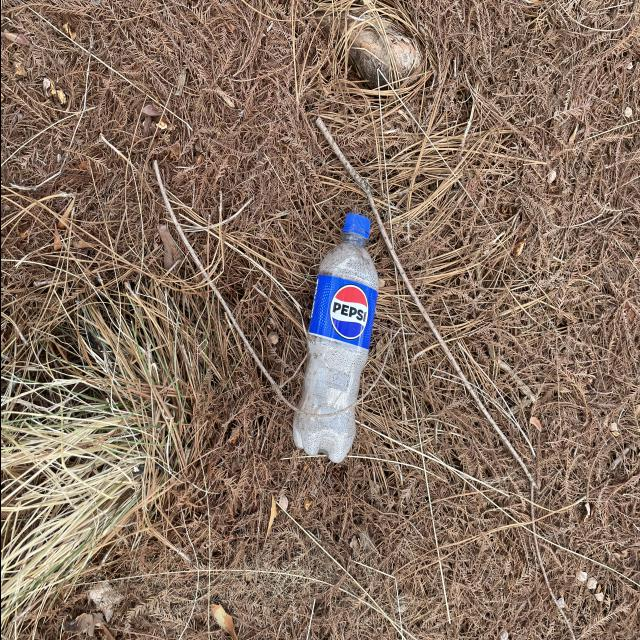plastic: (289, 205, 381, 466)
trash-zQNu: (288, 203, 384, 463)
